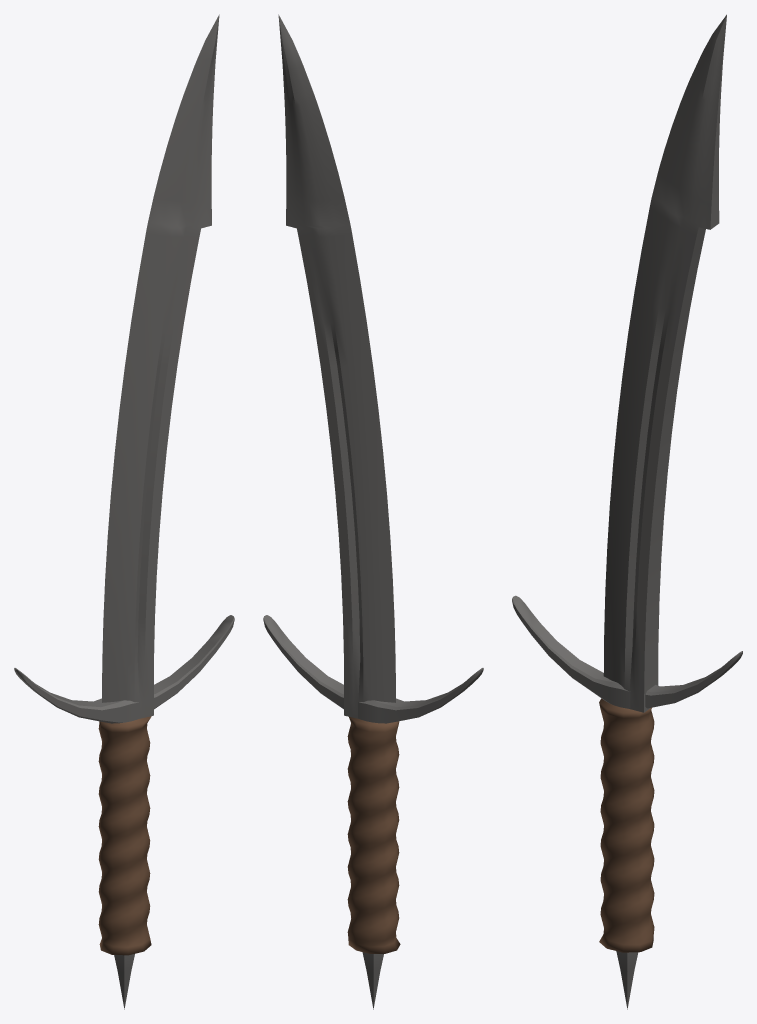
The model's file is drow-razor.glb.
3 views of the same model, side by side, from view 1: azimuth 30°, elevation 25°; view 2: azimuth 150°, elevation 25°; view 3: azimuth 330°, elevation 25° (orthographic). The views are drawn at different scales.
Parts seen in each view (by area): view 1: drow-razor; view 2: drow-razor; view 3: drow-razor.
Part boxes in pixels (left/top/right/bottom): drow-razor: left=14, top=14, right=234, bottom=1009; drow-razor: left=263, top=14, right=483, bottom=1009; drow-razor: left=512, top=14, right=742, bottom=1009.
Size of the model in its own units: 0.28 by 1.19 by 0.051.
